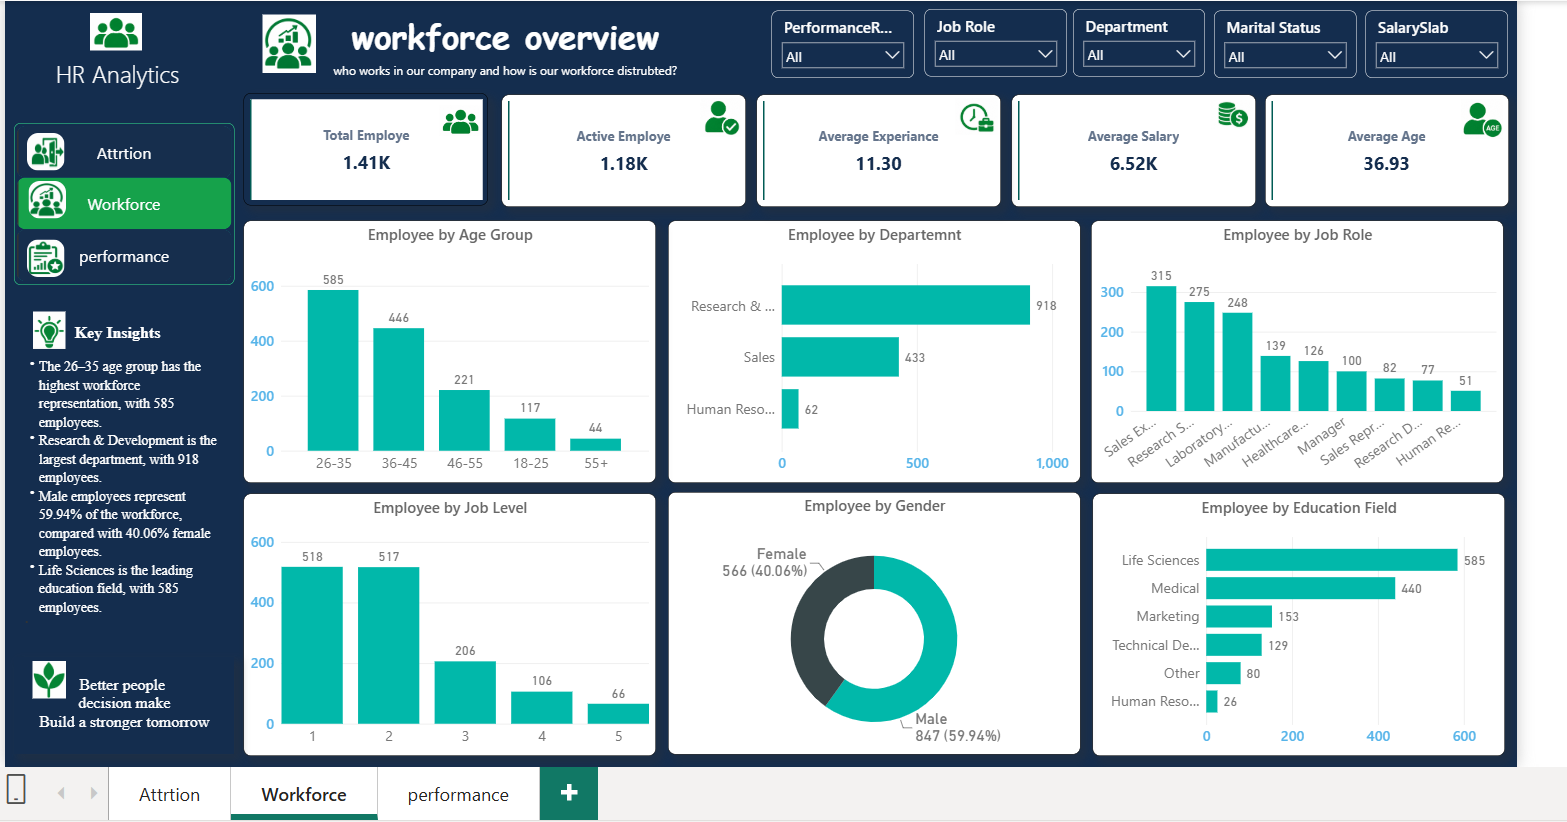

Layout of this report page (visuals, bound fields, positions):
{"tool":"powerbi","page":{"name":"    Workforce ","canvas":[2015,1023],"ordinal":1},"visuals":[{"type":"textbox","title":"  workforce overview","box":[318,16,698,90],"z":0},{"type":"cardVisual","fields":{"Data":["HR_Analytics.Avg Salary"]},"box":[1342,126,326,150],"z":1000},{"type":"slicer","fields":{"Values":["HR_Analytics.Department"]},"box":[1424,12,176,90],"z":2000},{"type":"cardVisual","fields":{"Data":["HR_Analytics.Active Employe"]},"box":[662,126,326,150],"z":3000},{"type":"cardVisual","fields":{"Data":["HR_Analytics.Avg Age"]},"box":[1680,126,325,150],"z":4000},{"type":"barChart","title":" Employee by Departemnt","fields":{"Y":["Count(HR_Analytics.EmpID)"],"Category":["HR_Analytics.Department"]},"box":[884,294,550,350],"z":5000},{"type":"columnChart","title":"Employee by Age Group","fields":{"Category":["HR_Analytics.AgeGroup"],"Y":["CountNonNull(HR_Analytics.EmpID)"]},"box":[318,294,550,350],"z":6000},{"type":"clusteredColumnChart","title":"Employee by Job Role","fields":{"Y":["CountNonNull(HR_Analytics.EmpID)"],"Category":["HR_Analytics.JobRole"]},"box":[1448,294,550,350],"z":7000},{"type":"cardVisual","fields":{"Data":["HR_Analytics.Avg Experiance"]},"box":[1002,126,326,150],"z":8000},{"type":"clusteredColumnChart","title":"Employee by Job Level ","fields":{"Category":["HR_Analytics.JobLevel"],"Y":["CountNonNull(HR_Analytics.EmpID)"]},"box":[318,658,550,350],"z":9000},{"type":"clusteredBarChart","title":"Employee by Education Field","fields":{"Category":["HR_Analytics.EducationField"],"Y":["CountNonNull(HR_Analytics.EmpID)"]},"box":[1450,658,550,350],"z":10000},{"type":"cardVisual","fields":{"Data":["HR_Analytics.Total Employe"]},"box":[318,124,326,150],"z":11000},{"type":"slicer","fields":{"Values":["HR_Analytics.SalarySlab"]},"box":[1814,14,190,90],"z":12000},{"type":"slicer","fields":{"Values":["HR_Analytics.JobLevel"]},"box":[1612,14,190,90],"z":13000},{"type":"slicer","fields":{"Values":["HR_Analytics.PerformanceRating"]},"box":[1022,14,190,90],"z":14000},{"type":"slicer","fields":{"Values":["HR_Analytics.JobRole"]},"box":[1226,12,190,90],"z":15000},{"type":"donutChart","title":"Employee by Gender","fields":{"Category":["HR_Analytics.Gender"],"Y":["CountNonNull(HR_Analytics.EmpID)"]},"box":[884,656,550,350],"z":16000},{"type":"image","box":[1602,120,66,66],"z":17000},{"type":"image","box":[318,14,122,88],"z":18000},{"type":"textbox","box":[12,426,276,450],"z":19000},{"type":"image","box":[574,128,66,66],"z":20000},{"type":"image","box":[922,124,65,65],"z":21000},{"type":"image","box":[1262,122,66,66],"z":22000},{"type":"image","box":[1936,126,66,66],"z":23000},{"type":"pageNavigator","box":[12,164,294,216],"z":24000},{"type":"textbox","box":[12,14,276,110],"z":25000},{"type":"image","box":[108,12,80,60],"z":26000},{"type":"image","box":[24,172,60,60],"z":27000},{"type":"image","box":[24,314,60,60],"z":28000},{"type":"image","box":[26,236,60,60],"z":29000},{"type":"textbox","box":[12,876,294,130],"z":30000},{"type":"image","box":[26,876,66,60],"z":31000},{"type":"image","box":[26,410,66,60],"z":32000}]}

Visuals, with their boxes on the page's 2015x1023 design canvas (x1, y1, x2, y2). These are canvas units, not pixel positions in the 1567x822 screenshot, which may show the page scaled, cropped or inside an application window:
"  workforce overview" textbox: {"left": 318, "top": 16, "right": 1016, "bottom": 106}
cardVisual - HR_Analytics.Avg Salary: {"left": 1342, "top": 126, "right": 1668, "bottom": 276}
slicer - HR_Analytics.Department: {"left": 1424, "top": 12, "right": 1600, "bottom": 102}
cardVisual - HR_Analytics.Active Employe: {"left": 662, "top": 126, "right": 988, "bottom": 276}
cardVisual - HR_Analytics.Avg Age: {"left": 1680, "top": 126, "right": 2005, "bottom": 276}
" Employee by Departemnt" barChart: {"left": 884, "top": 294, "right": 1434, "bottom": 644}
"Employee by Age Group" columnChart: {"left": 318, "top": 294, "right": 868, "bottom": 644}
"Employee by Job Role" clusteredColumnChart: {"left": 1448, "top": 294, "right": 1998, "bottom": 644}
cardVisual - HR_Analytics.Avg Experiance: {"left": 1002, "top": 126, "right": 1328, "bottom": 276}
"Employee by Job Level " clusteredColumnChart: {"left": 318, "top": 658, "right": 868, "bottom": 1008}
"Employee by Education Field" clusteredBarChart: {"left": 1450, "top": 658, "right": 2000, "bottom": 1008}
cardVisual - HR_Analytics.Total Employe: {"left": 318, "top": 124, "right": 644, "bottom": 274}
slicer - HR_Analytics.SalarySlab: {"left": 1814, "top": 14, "right": 2004, "bottom": 104}
slicer - HR_Analytics.JobLevel: {"left": 1612, "top": 14, "right": 1802, "bottom": 104}
slicer - HR_Analytics.PerformanceRating: {"left": 1022, "top": 14, "right": 1212, "bottom": 104}
slicer - HR_Analytics.JobRole: {"left": 1226, "top": 12, "right": 1416, "bottom": 102}
"Employee by Gender" donutChart: {"left": 884, "top": 656, "right": 1434, "bottom": 1006}
image: {"left": 1602, "top": 120, "right": 1668, "bottom": 186}
image: {"left": 318, "top": 14, "right": 440, "bottom": 102}
textbox: {"left": 12, "top": 426, "right": 288, "bottom": 876}
image: {"left": 574, "top": 128, "right": 640, "bottom": 194}
image: {"left": 922, "top": 124, "right": 987, "bottom": 189}
image: {"left": 1262, "top": 122, "right": 1328, "bottom": 188}
image: {"left": 1936, "top": 126, "right": 2002, "bottom": 192}
pageNavigator: {"left": 12, "top": 164, "right": 306, "bottom": 380}
textbox: {"left": 12, "top": 14, "right": 288, "bottom": 124}
image: {"left": 108, "top": 12, "right": 188, "bottom": 72}
image: {"left": 24, "top": 172, "right": 84, "bottom": 232}
image: {"left": 24, "top": 314, "right": 84, "bottom": 374}
image: {"left": 26, "top": 236, "right": 86, "bottom": 296}
textbox: {"left": 12, "top": 876, "right": 306, "bottom": 1006}
image: {"left": 26, "top": 876, "right": 92, "bottom": 936}
image: {"left": 26, "top": 410, "right": 92, "bottom": 470}
